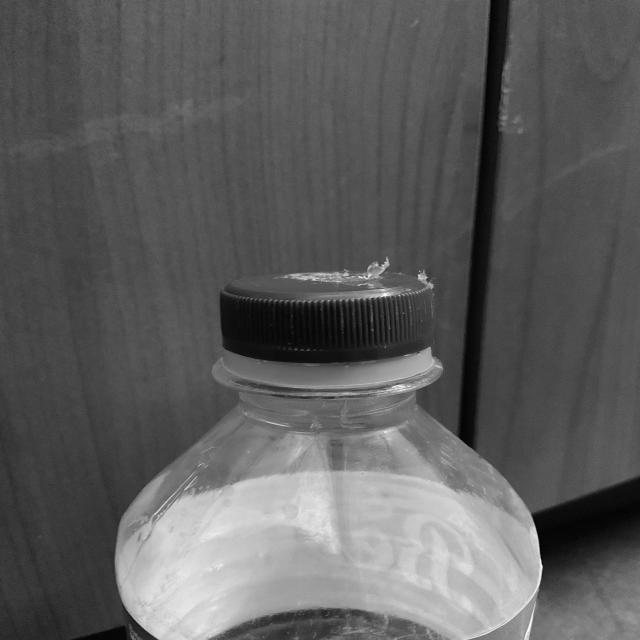Good-cap-Df0S: (211, 270, 444, 389)
